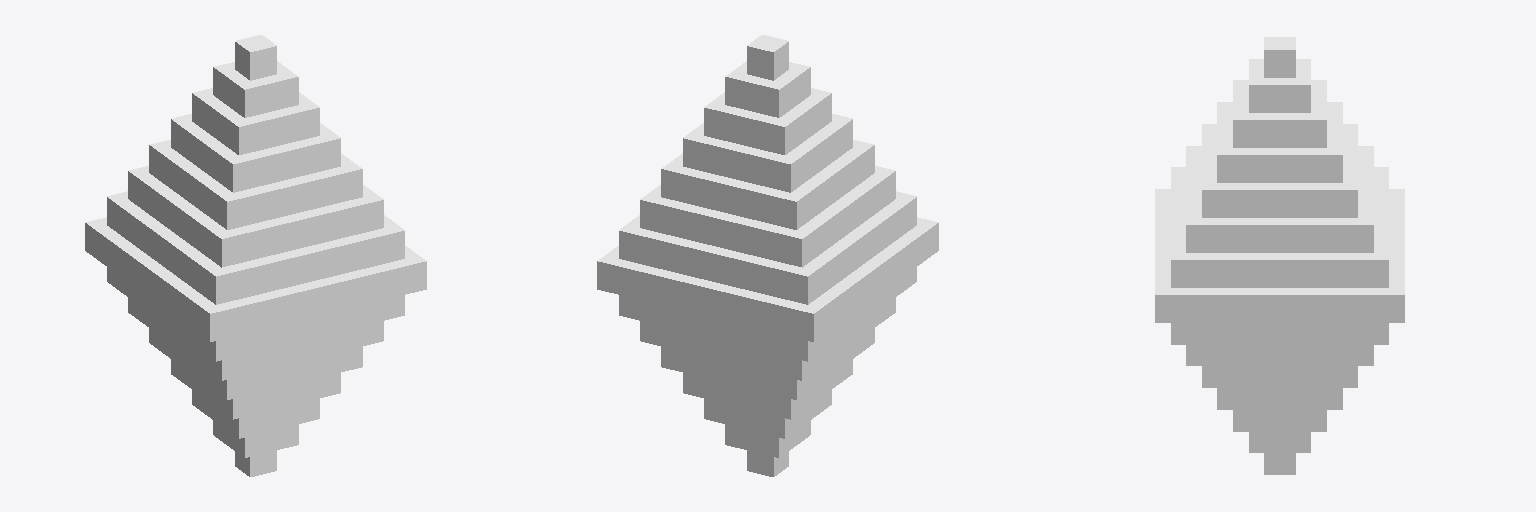
Rendered from diamond.obj.
3 renders of one model, left to right at view 1: azimuth 30°, elevation 25°; view 2: azimuth 150°, elevation 25°; view 3: azimuth 270°, elevation 25°, orthographic.
Parts seen in each view (by area): view 1: object 1; view 2: object 1; view 3: object 1.
Part boxes in pixels (x1,y1,x2,y2): object 1: (85,35,426,476); object 1: (597,35,938,476); object 1: (1155,37,1404,474).
Bounding box in the file's own units: 1.6 × 3 × 1.6.